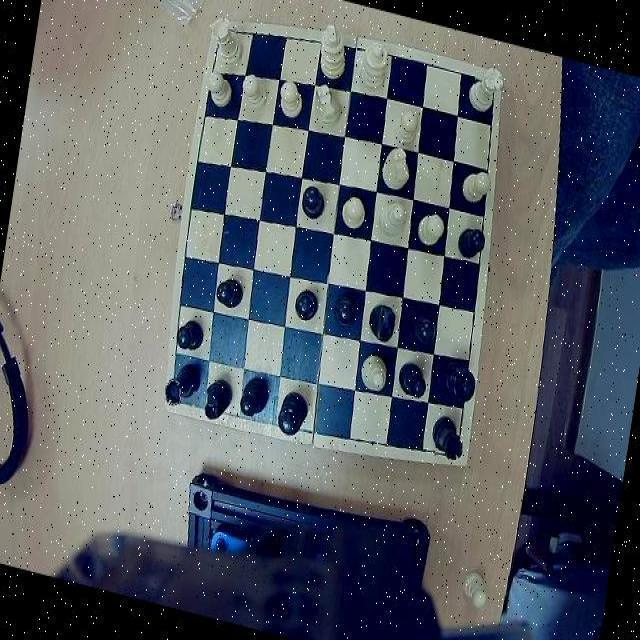chess-table-corners: (433, 430, 467, 466), (164, 378, 198, 414), (472, 70, 504, 105), (210, 18, 238, 52)
